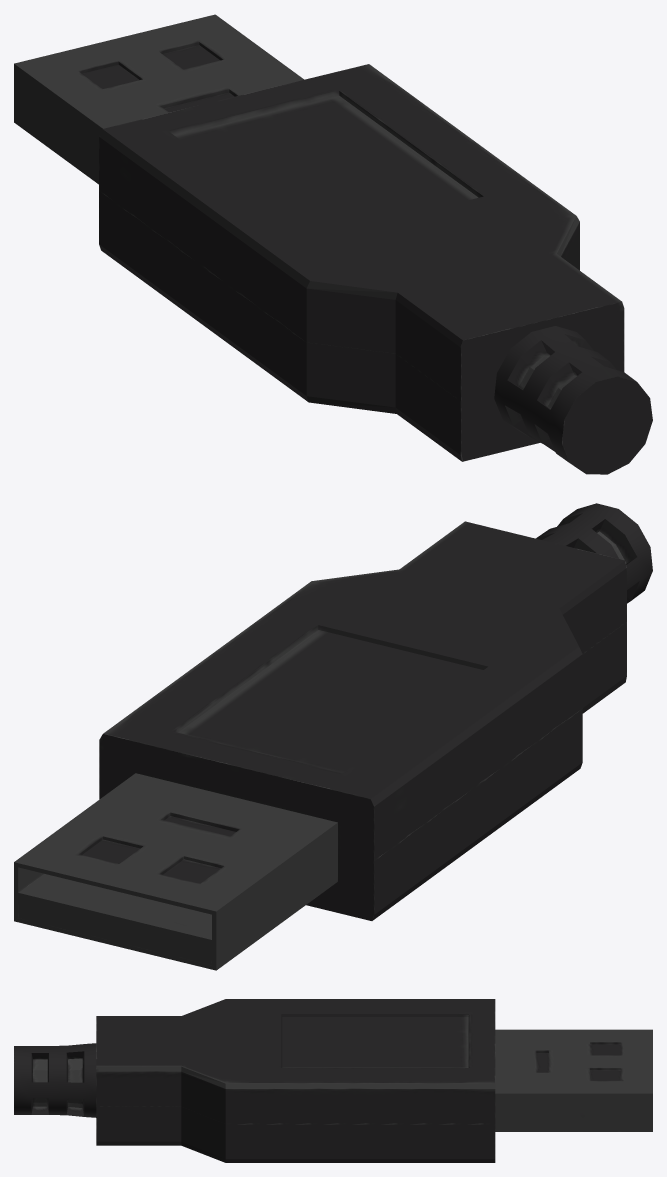
The model's file is USB.FBX.
The picture shows the model from 3 angles, top to bottom: view 1: azimuth 30°, elevation 25°; view 2: azimuth 150°, elevation 25°; view 3: azimuth 270°, elevation 25°; orthographic projection. The views are drawn at different scales.
Visible parts, largest first — view 1: USB; view 2: USB; view 3: USB.
Boxes of the visible parts, x1,y1,x2,y2 form: USB: (14,14,652,474); USB: (14,503,652,970); USB: (14,999,652,1162).
Bounding box in the file's own units: 65.97 × 27.95 × 205.
